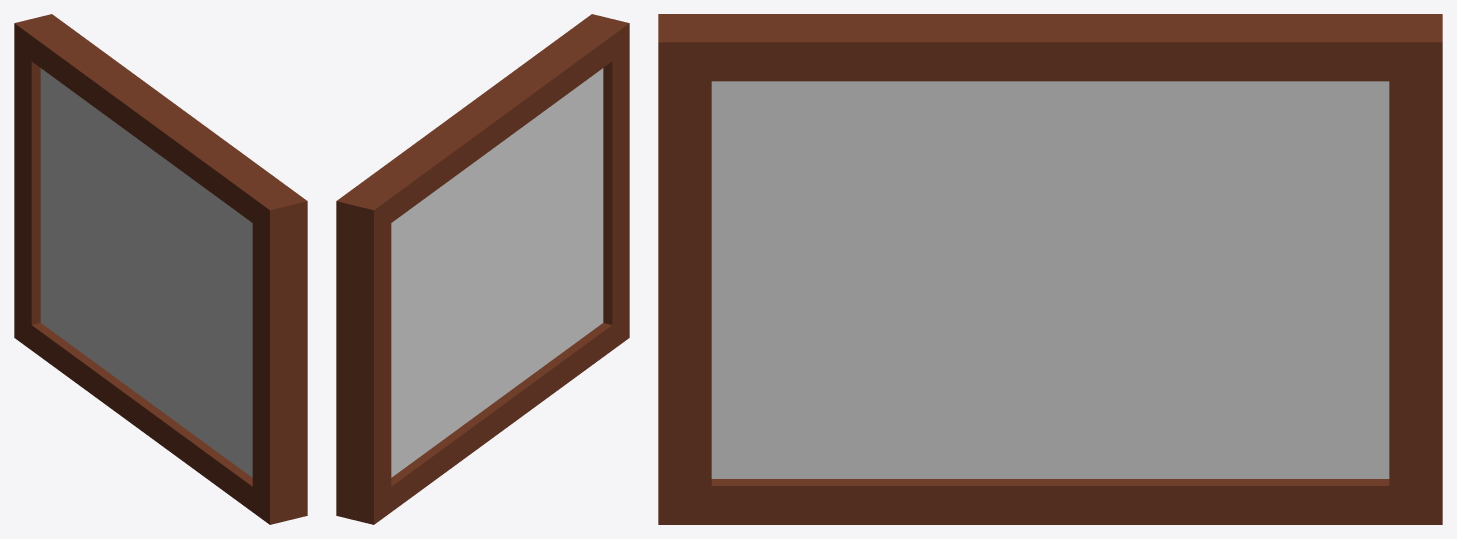
File: window_2_asset.dae
3 renders of one model, left to right at view 1: azimuth 30°, elevation 25°; view 2: azimuth 150°, elevation 25°; view 3: azimuth 270°, elevation 25°, orthographic. The views are drawn at different scales.
Parts seen in each view (by area): view 1: Cube.001; view 2: Cube.001; view 3: Cube.001.
Part boxes in pixels (bbox=[...]): Cube.001: bbox=[14, 14, 307, 524]; Cube.001: bbox=[336, 14, 629, 524]; Cube.001: bbox=[658, 14, 1442, 524].
Size of the model in its own units: 0.1275 by 1.5 by 1.02.
